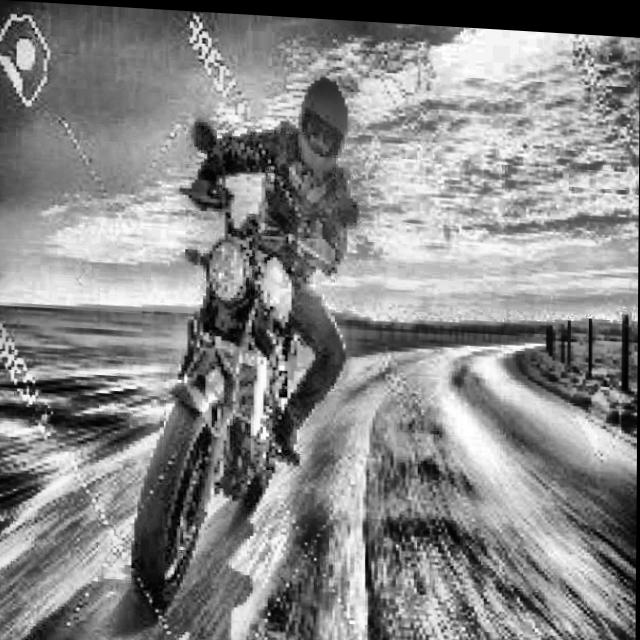motorcycle: (89, 109, 390, 613)
